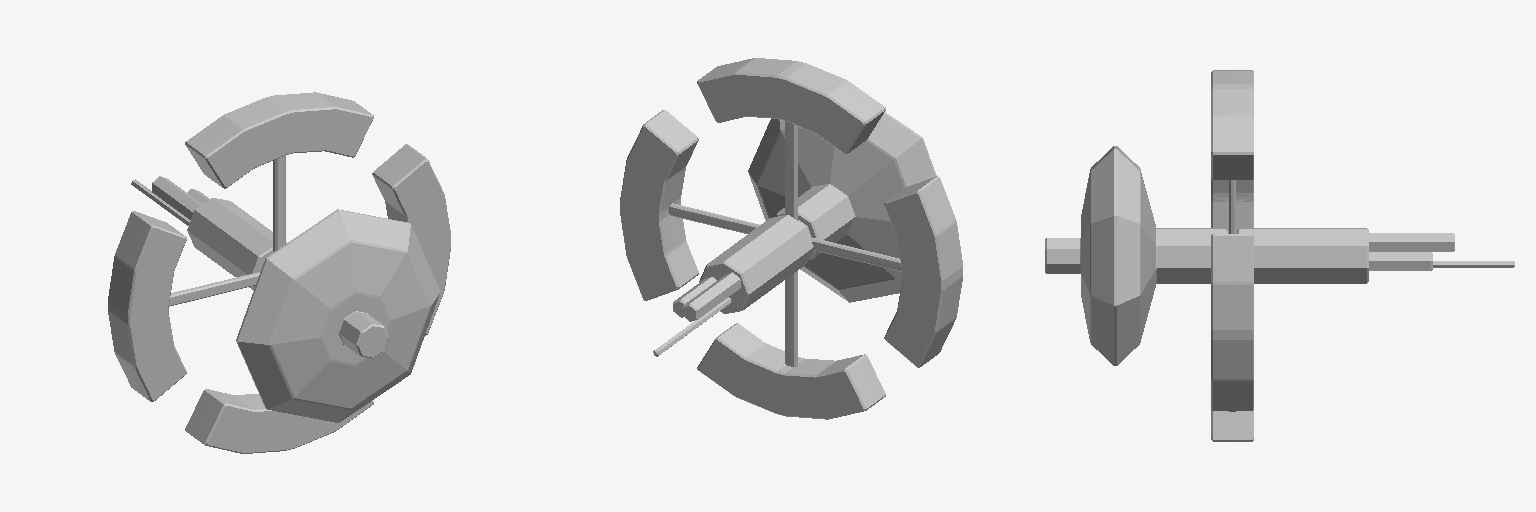
File: asteroidStation.obj
The picture shows the model from 3 angles: view 1: azimuth 30°, elevation 25°; view 2: azimuth 150°, elevation 25°; view 3: azimuth 270°, elevation 25°; orthographic projection.
Visible parts, largest first — view 1: stationBody_Mesh, spinner_Mesh; view 2: spinner_Mesh, stationBody_Mesh; view 3: stationBody_Mesh, spinner_Mesh.
Part boxes in pixels (x1,y1,x2,y2): stationBody_Mesh: (131,176,440,422); spinner_Mesh: (108,92,450,453); spinner_Mesh: (620,58,962,419); stationBody_Mesh: (653,112,936,356); stationBody_Mesh: (1045,146,1514,365); spinner_Mesh: (1211,70,1253,441).
Bounding box in the file's own units: 15.55 × 15.55 × 19.53.